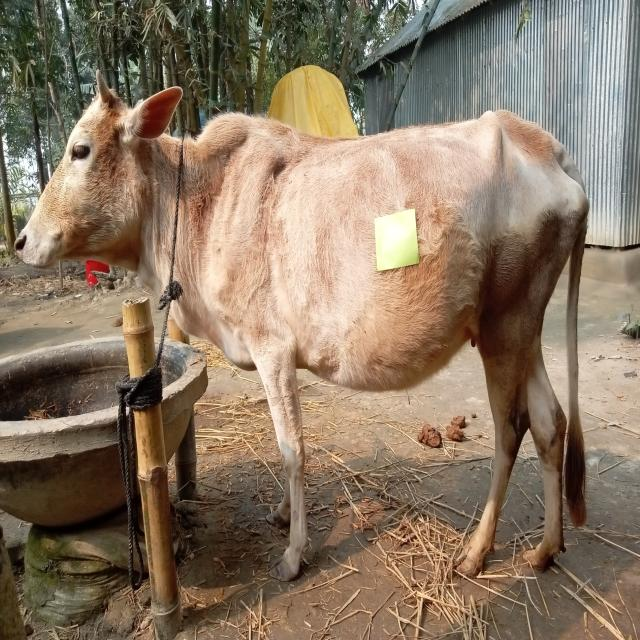badan_sapi: (240, 116, 579, 396)
sapi: (7, 61, 597, 584)
